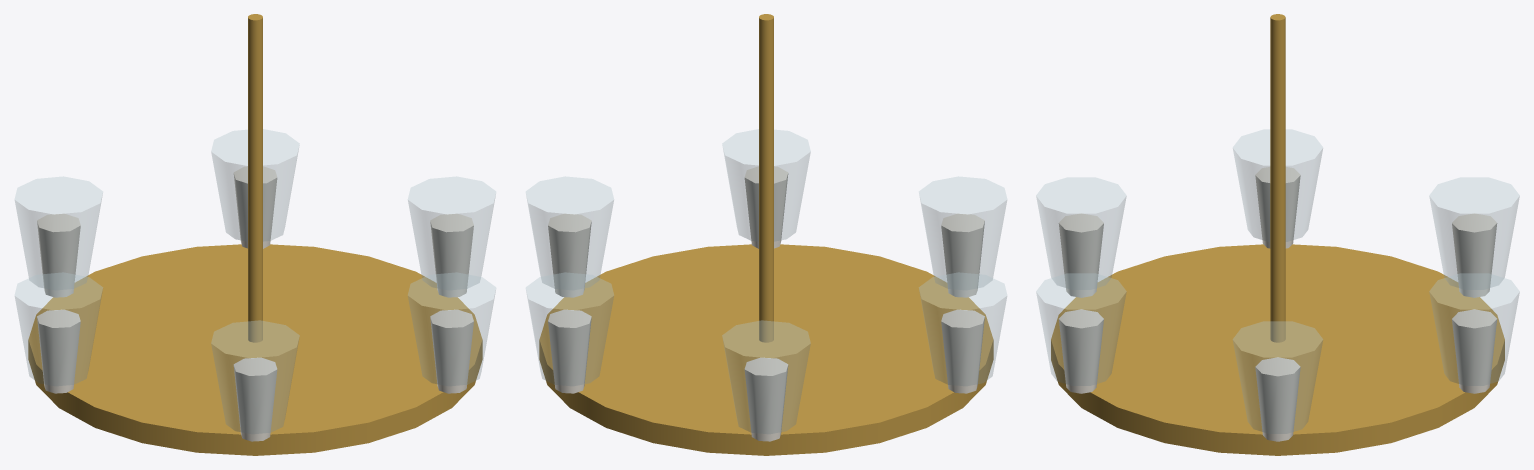
File: chandelier.glb
The picture shows the model from 3 angles, left to right: view 1: azimuth 30°, elevation 25°; view 2: azimuth 150°, elevation 25°; view 3: azimuth 270°, elevation 25°; orthographic projection.
Parts seen in each view (by area): view 1: chandelier; view 2: chandelier; view 3: chandelier.
Boxes of the visible parts, <box> form: chandelier: <box>14,14,495,455</box>; chandelier: <box>526,14,1007,455</box>; chandelier: <box>1036,14,1519,455</box>.
Bounding box in the file's own units: 0.7141 × 0.5 × 0.6396.
